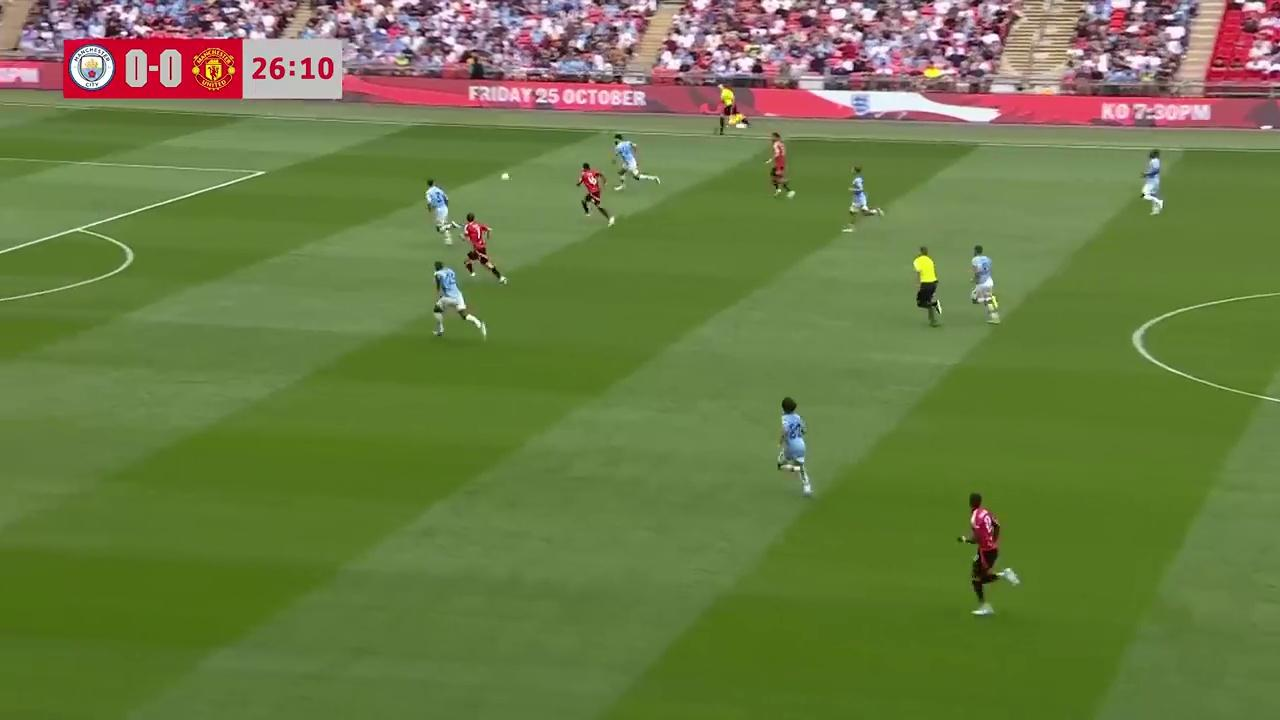ball: (500, 167, 511, 183)
player: (962, 494, 1021, 618), (431, 258, 488, 340), (775, 396, 814, 497), (460, 213, 506, 285), (842, 165, 883, 233), (611, 135, 660, 190), (968, 245, 1001, 323), (575, 163, 615, 225), (425, 178, 455, 241), (766, 136, 794, 198), (1140, 150, 1164, 215)
referee: (911, 246, 943, 326), (714, 83, 747, 137)
